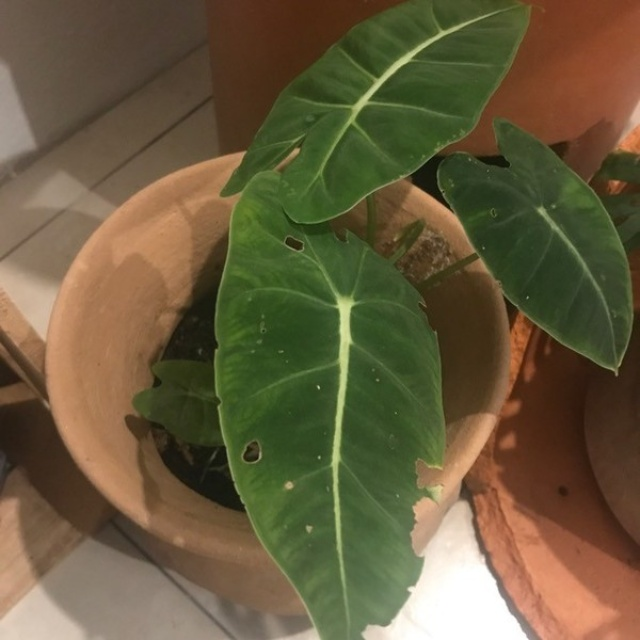obstacle: (38, 11, 611, 595)
